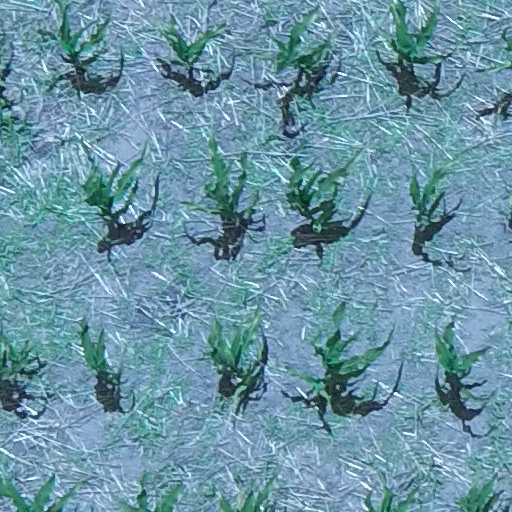planta: (284, 299, 389, 406), (182, 134, 259, 220), (203, 306, 265, 401), (283, 155, 353, 232), (431, 323, 494, 402), (257, 7, 330, 75), (84, 155, 143, 224), (159, 17, 226, 69), (76, 315, 120, 385), (407, 169, 444, 224)
